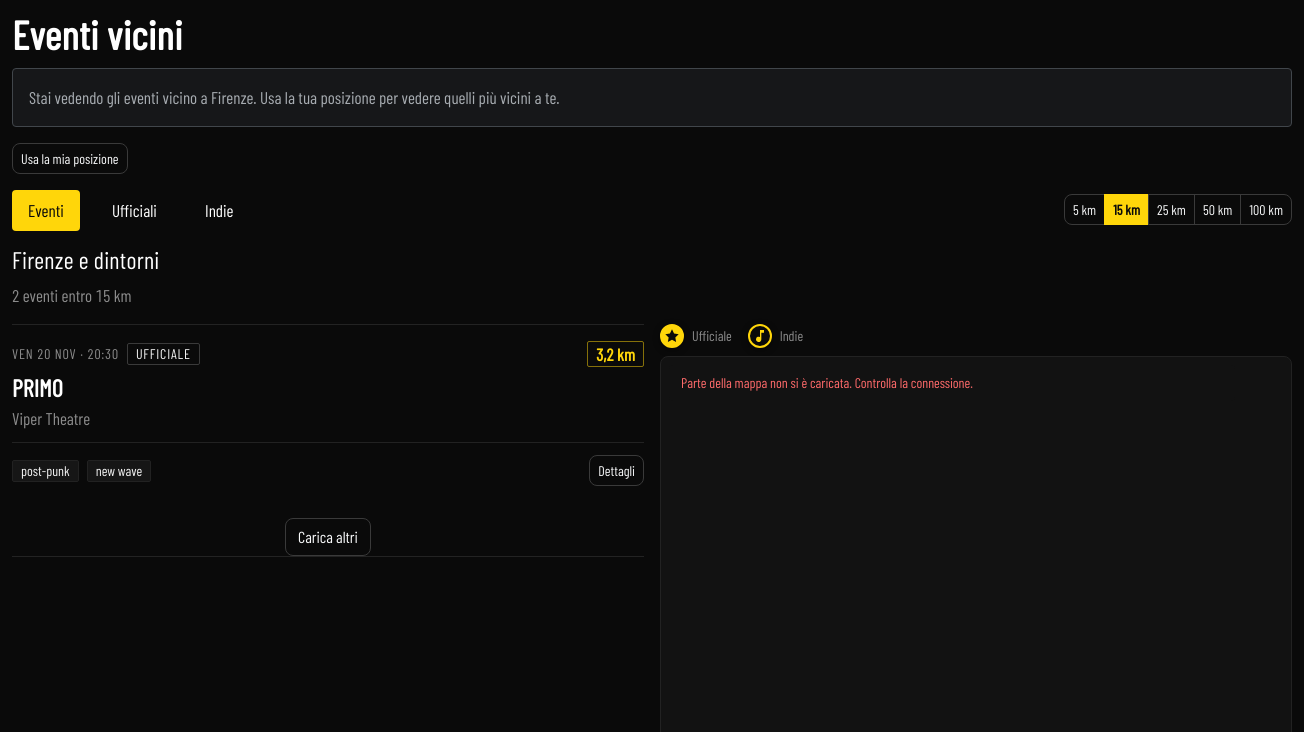
Test: NearbyEventsPage · Carica altri › carica la pagina successiva e la accoda, poi il pulsante sparisce
The image size is (1304, 732).
expect the heading "Primo" is shown: met, box x1=12 y1=373 x2=63 y2=402
What coordinates should you click on to do the following:
click the button "Carica altri"
I would click on:
 (328, 537)
Its box is x1=285 y1=518 x2=371 y2=556.
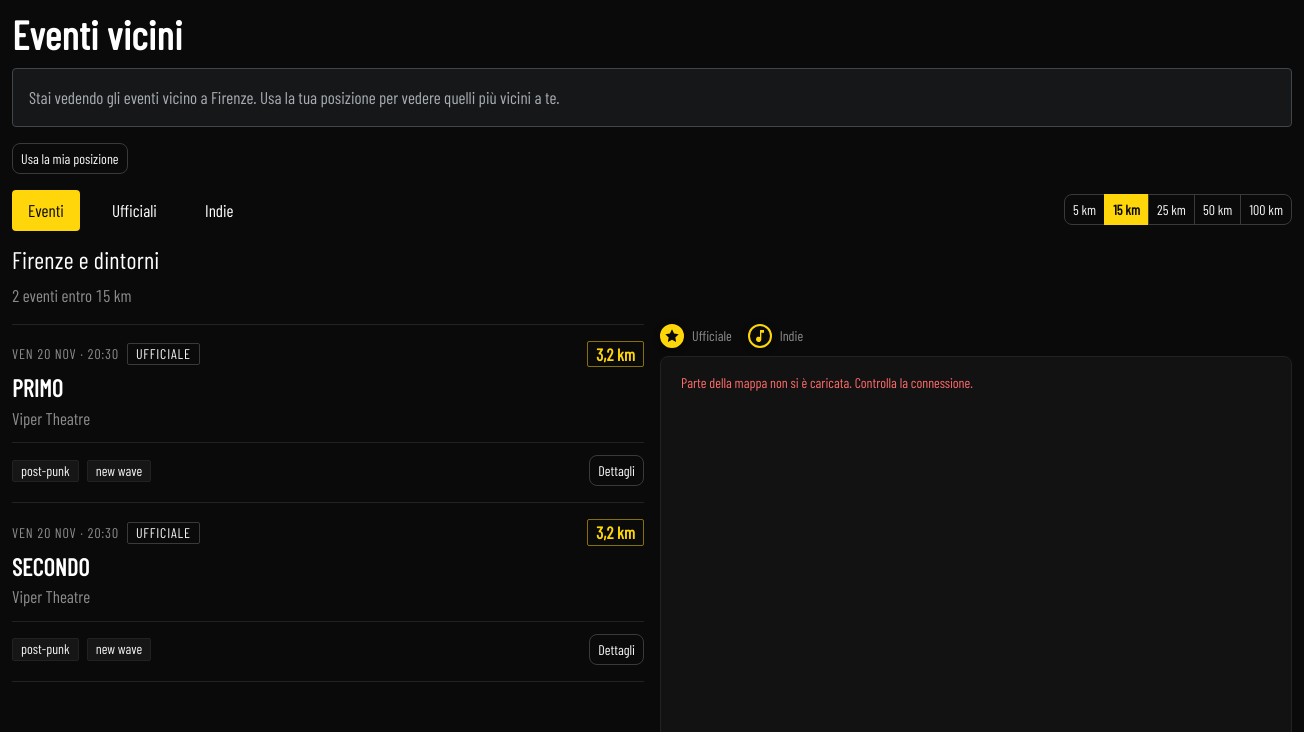
expect the heading "Primo" is shown: met, box x1=12 y1=373 x2=63 y2=402
expect the heading "Secondo" is shown: met, box x1=12 y1=552 x2=89 y2=581
expect the button "Carica altri" is gone: met
